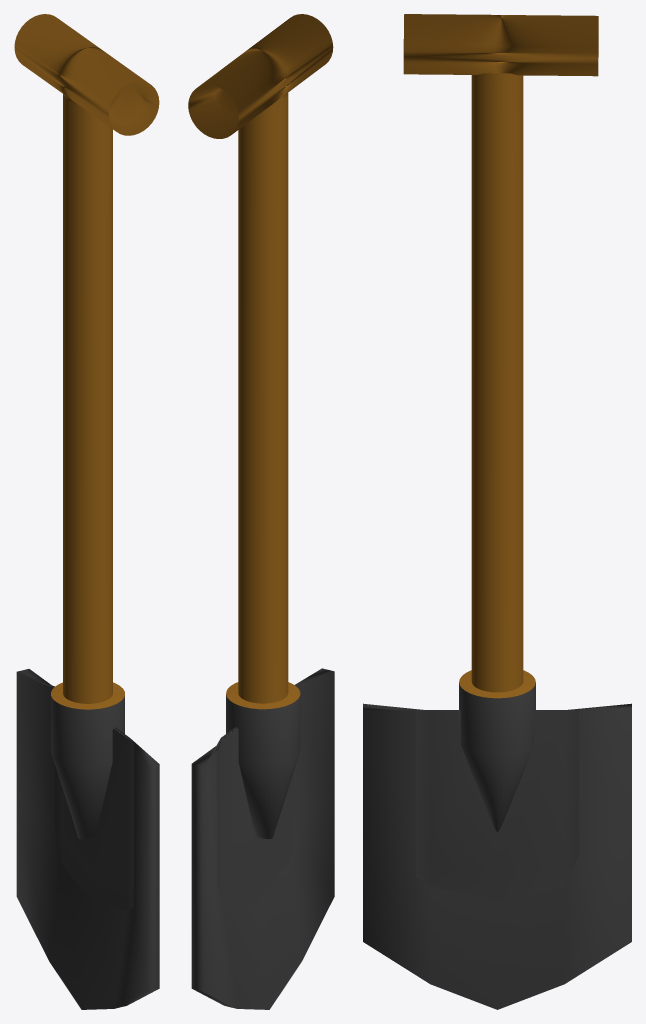
Rendered from Icono PLANTAR ESTE intento _.fbx.
The picture shows the model from 3 angles, left to right: view 1: azimuth 30°, elevation 25°; view 2: azimuth 150°, elevation 25°; view 3: azimuth 270°, elevation 25°; orthographic projection. The views are drawn at different scales.
Visible parts, largest first — view 1: Cylinder; view 2: Cylinder; view 3: Cylinder.
Boxes of the visible parts, x1=… form: Cylinder: x1=14, y1=14, x2=159, y2=1009; Cylinder: x1=188, y1=14, x2=334, y2=1009; Cylinder: x1=363, y1=14, x2=631, y2=1009.
Bounding box in the file's own units: 66.75 × 950 × 234.
